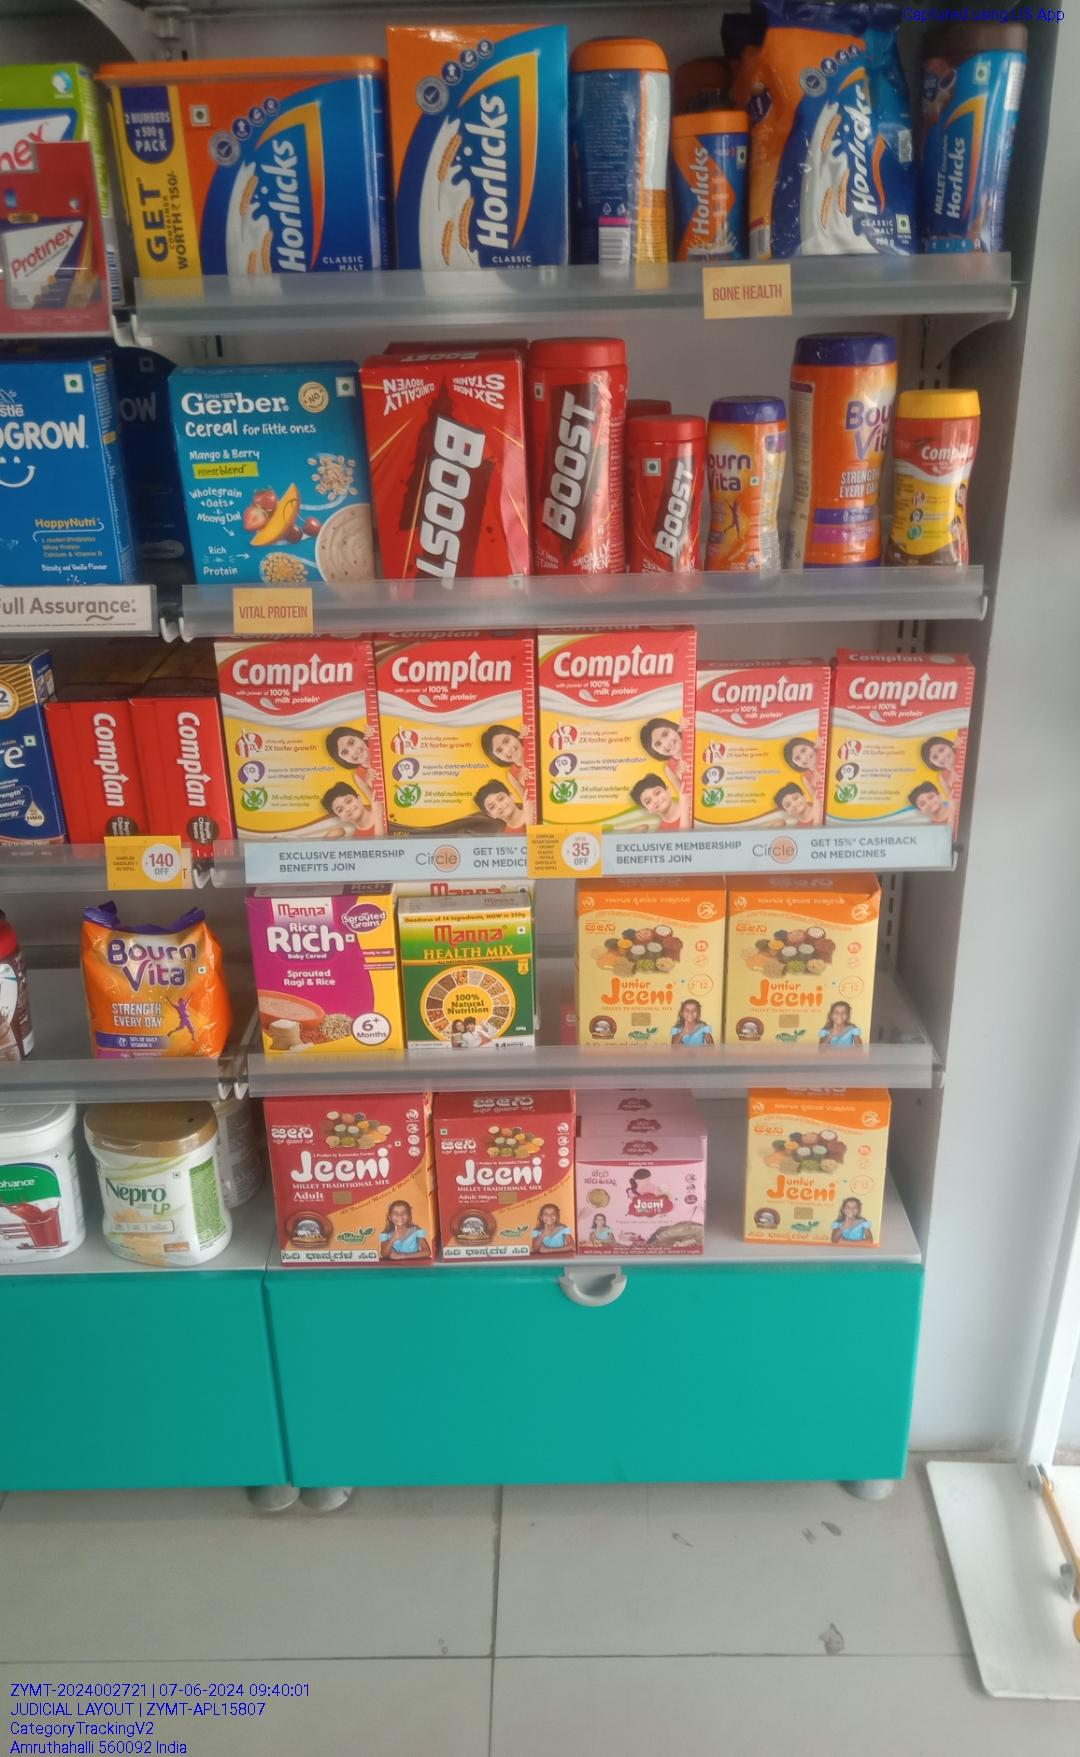BOURN_VITA_200_G_JAR: (707, 402, 764, 581)
BOURN_VITA_500_G_JAR: (799, 330, 894, 576)
BOURN_VITA_500_G_POUCH: (84, 914, 223, 1064)
COMPLAN_CHOCOLATE_200_GMS_JAR: (896, 387, 980, 579)
COMPLAN_CHOCOLATE_500_GMS_PACK: (379, 641, 532, 836)
COMPLAN_KESAR_BADAM_200_GMS_PACK: (696, 670, 817, 830)
COMPLAN_KESAR_BADAM_500_GMS_PACK: (221, 641, 373, 843)
COMPLAN_PISTA_BADAM_500_GMS_PACK: (538, 634, 690, 827)
HORLICK_CLASSIC_MALT_500_G_PACK: (389, 26, 568, 292)
HORLICK_CLASSIC_MALT_750_G_POUCH: (758, 5, 914, 259)
HORLICK_MALT_1_KG_CONTAINER: (110, 55, 380, 294)
